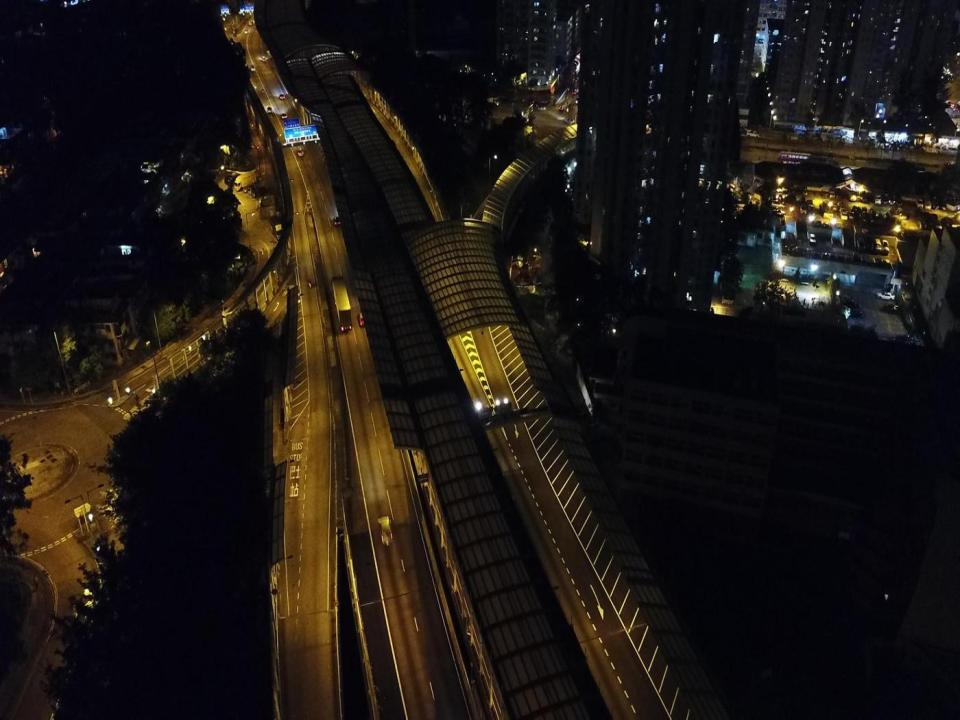car: (377, 514, 394, 546), (876, 290, 895, 301), (358, 307, 368, 327), (744, 127, 760, 139), (882, 237, 890, 255), (808, 233, 816, 244), (332, 216, 340, 226), (280, 111, 288, 119), (278, 93, 286, 101), (297, 148, 304, 157), (266, 105, 273, 114), (249, 64, 256, 71), (243, 27, 249, 34), (261, 55, 266, 62), (248, 19, 253, 26)
truck: (331, 275, 353, 331), (233, 170, 257, 192)
van: (874, 238, 882, 254)
